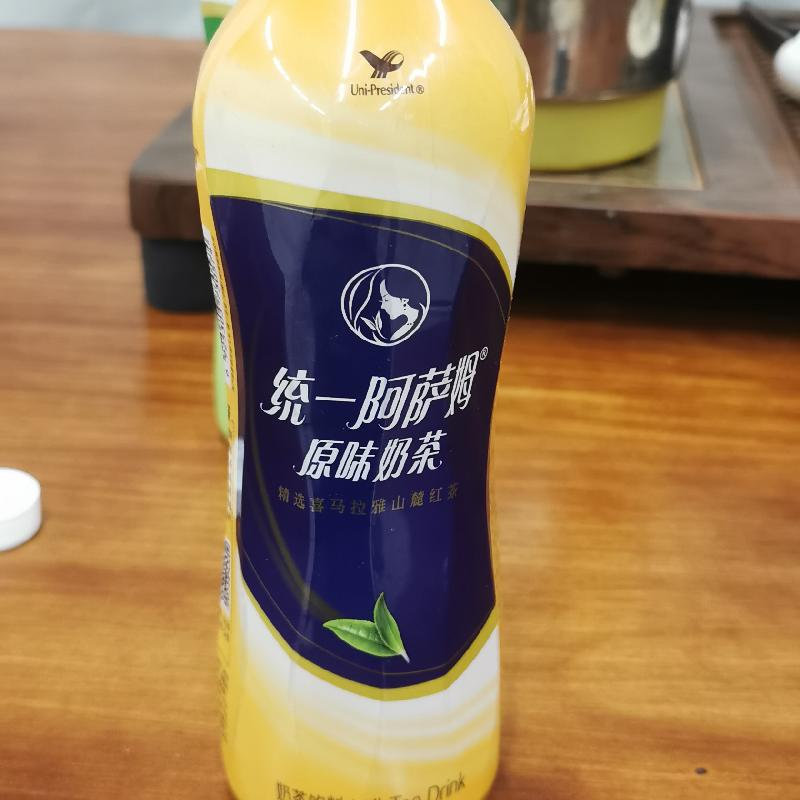bottles: (186, 3, 537, 799)
